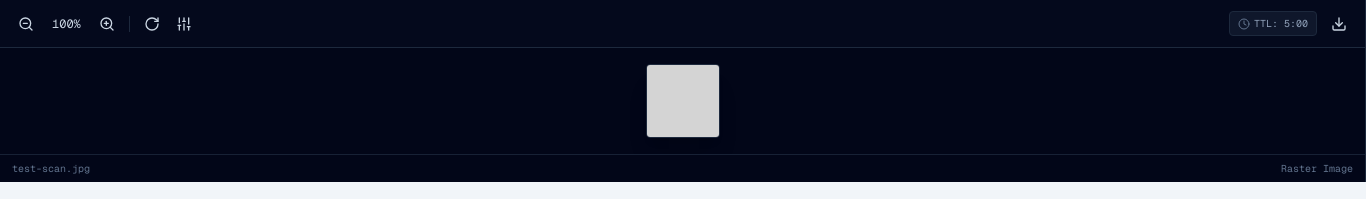
Test: PrescriptionDocumentViewer Component › toggles high-contrast monochrome inversion filter
Click the button titled "Toggle high-contrast monochrome inversion": {"x": 184, "y": 24} [170,10,198,38]
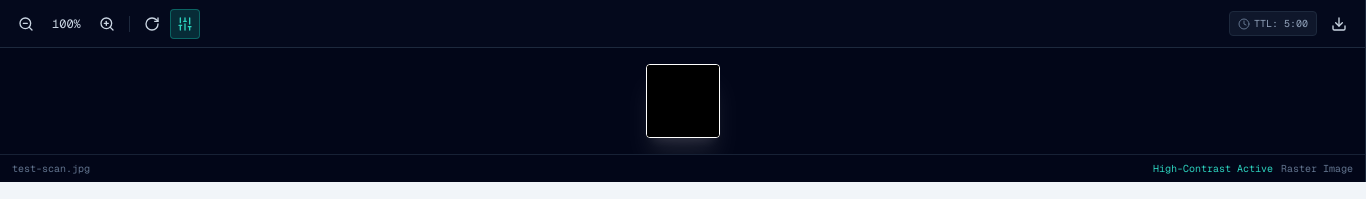
Expected: the text "High-Contrast Active" is shown, [1153,161,1273,176]
